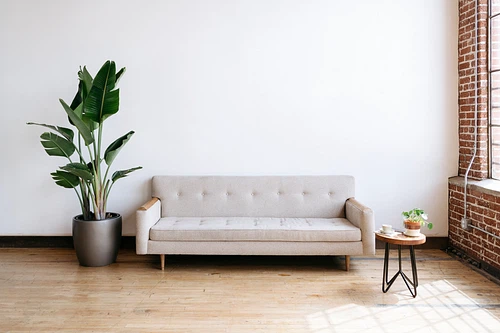large plant: (26, 59, 141, 265)
side table: (376, 230, 427, 300)
small plant: (401, 205, 433, 236)
sofa: (132, 173, 377, 271)
